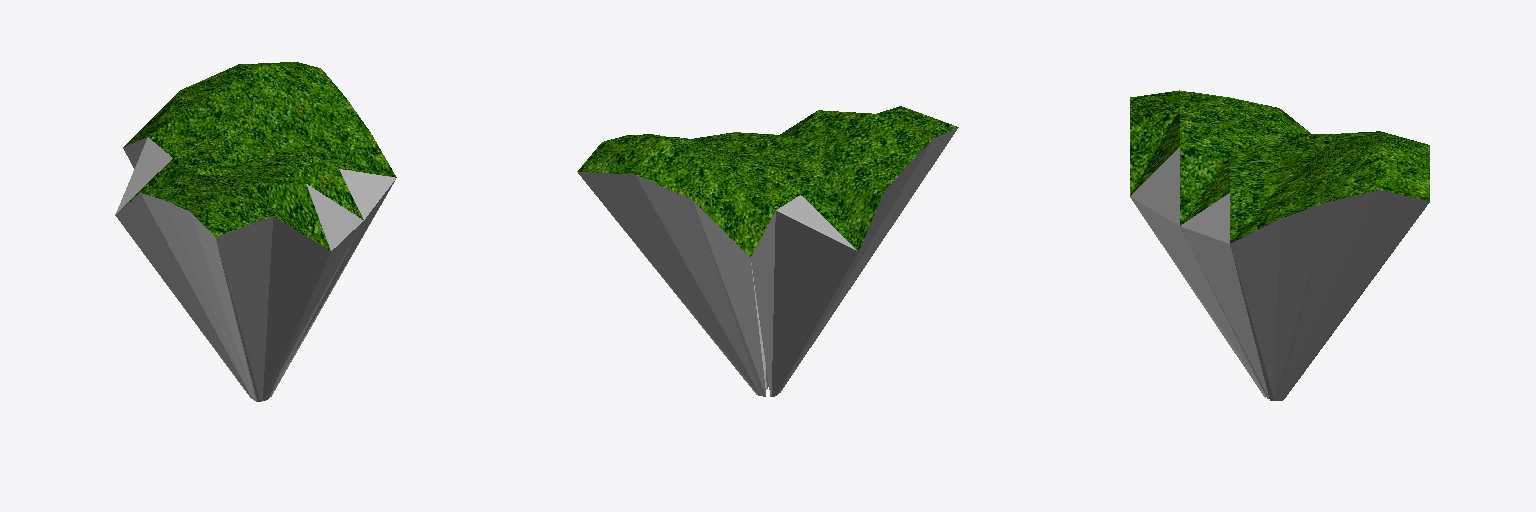
3 renders of one model, left to right at view 1: azimuth 30°, elevation 25°; view 2: azimuth 150°, elevation 25°; view 3: azimuth 270°, elevation 25°, orthographic.
Parts seen in each view (by area): view 1: Plane, Plane_Detached; view 2: Plane_Detached, Plane; view 3: Plane_Detached, Plane.
Boxes of the visible parts, box(x1,y1,x2,y2) form: Plane: box(121, 62, 396, 250); Plane_Detached: box(115, 137, 395, 401); Plane_Detached: box(578, 127, 958, 396); Plane: box(577, 106, 957, 257); Plane_Detached: box(1130, 147, 1429, 400); Plane: box(1130, 90, 1429, 243).
Bounding box in the file's own units: 2.67 × 3.08 × 3.
2 materials, 1 textured.